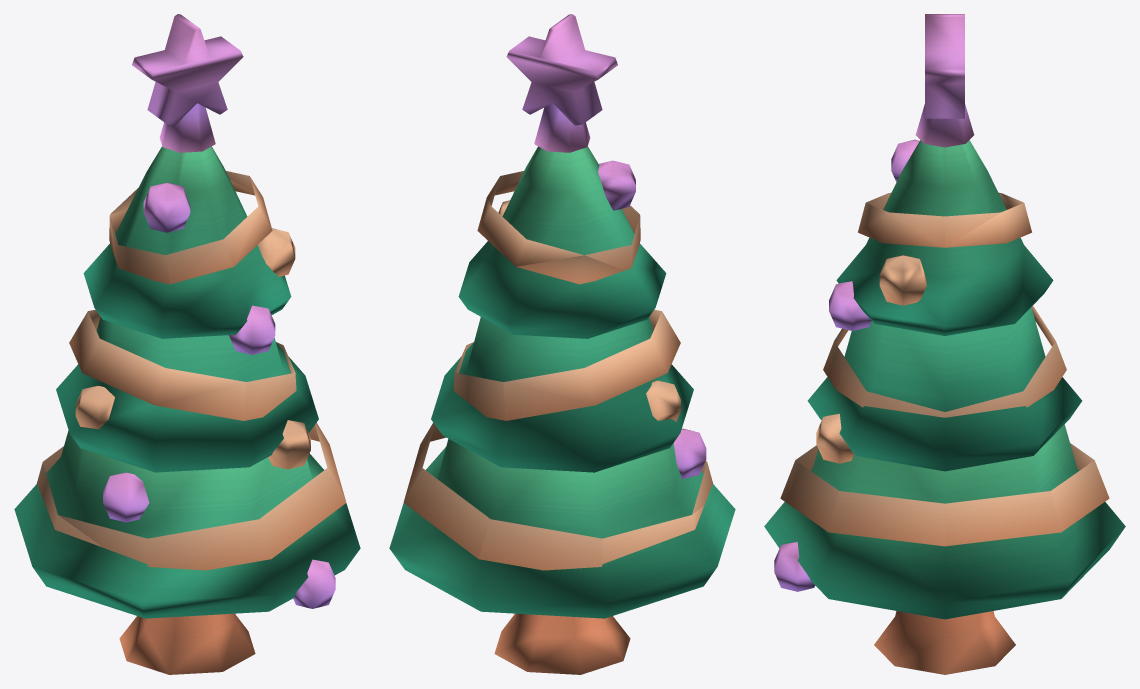
The model's file is tree-decorated.003_lev3.glb.
3 renders of one model, left to right at view 1: azimuth 30°, elevation 25°; view 2: azimuth 150°, elevation 25°; view 3: azimuth 270°, elevation 25°, orthographic.
Parts seen in each view (by area): view 1: tree-decorated.003_lev3; view 2: tree-decorated.003_lev3; view 3: tree-decorated.003_lev3.
Boxes of the visible parts, left/top/right/bottom form: tree-decorated.003_lev3: left=14, top=14, right=360, bottom=674; tree-decorated.003_lev3: left=389, top=14, right=735, bottom=674; tree-decorated.003_lev3: left=764, top=14, right=1125, bottom=674.
Bounding box in the file's own units: 4.76 × 9.16 × 4.76.
Materials: 1 (1 with a texture image).
